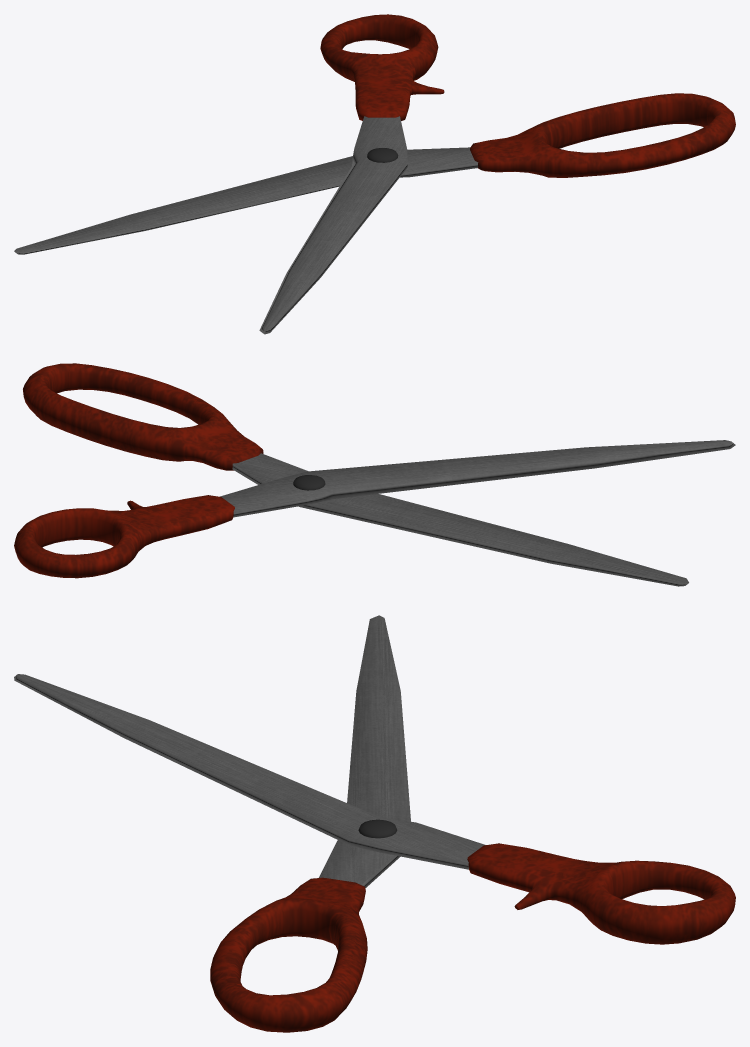
The model's file is Scissors.fbx.
3 views of the same model, one above another, from view 1: azimuth 30°, elevation 25°; view 2: azimuth 150°, elevation 25°; view 3: azimuth 270°, elevation 25° (orthographic). The views are drawn at different scales.
Parts seen in each view (by area): view 1: polySurface3; view 2: polySurface3; view 3: polySurface3.
Part boxes in pixels (x1,y1,x2,y2): polySurface3: (14, 14, 735, 334); polySurface3: (14, 363, 735, 586); polySurface3: (14, 615, 735, 1032).
Size of the model in its own units: 6.62 by 0.3383 by 4.96.
